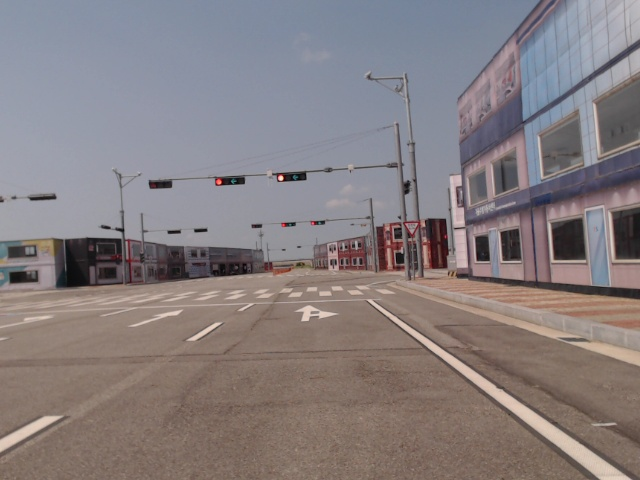left_green_4: (215, 178, 245, 186), (277, 174, 306, 182), (281, 223, 296, 227), (310, 221, 325, 224)
